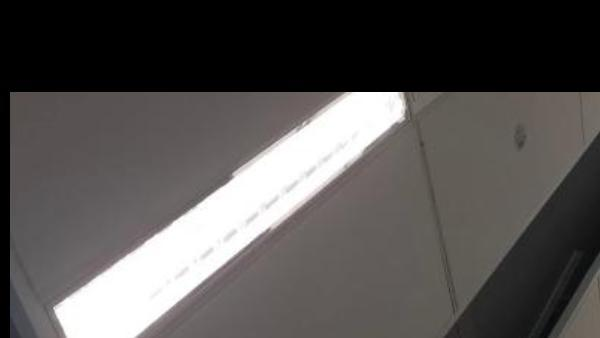light_on: (38, 44, 421, 338), (594, 254, 600, 338)
